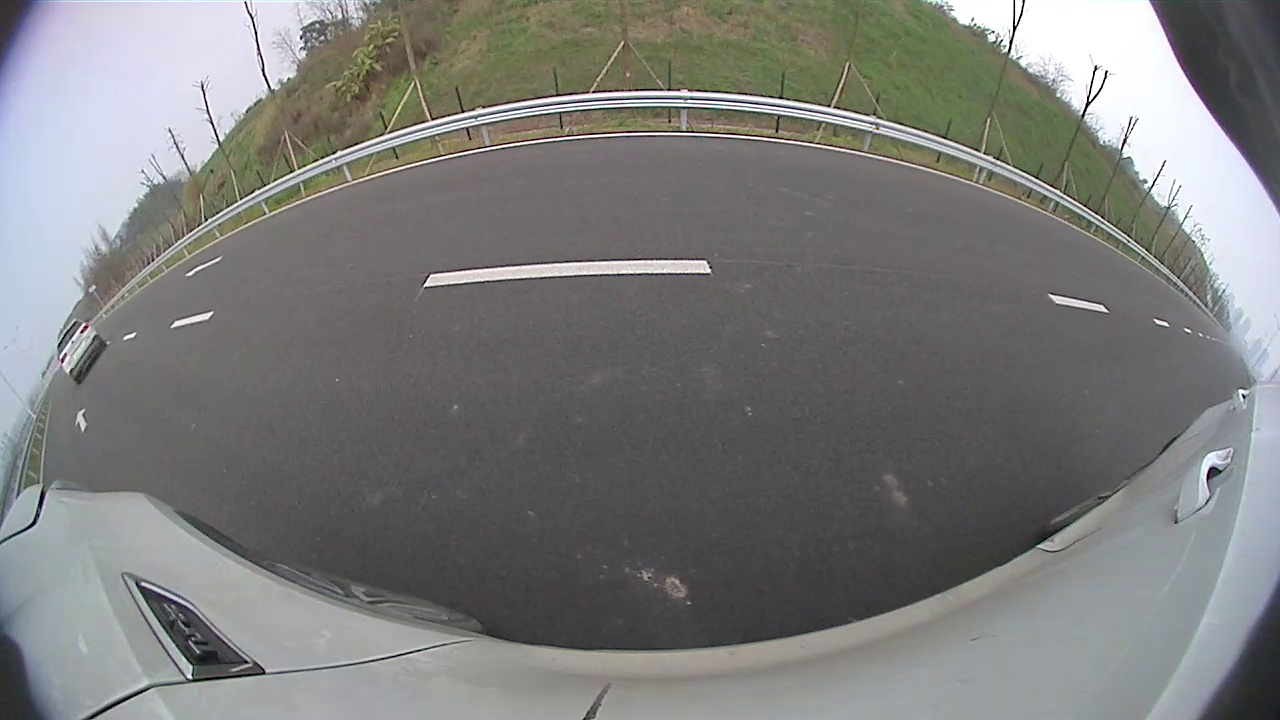car: (56, 318, 107, 384)
